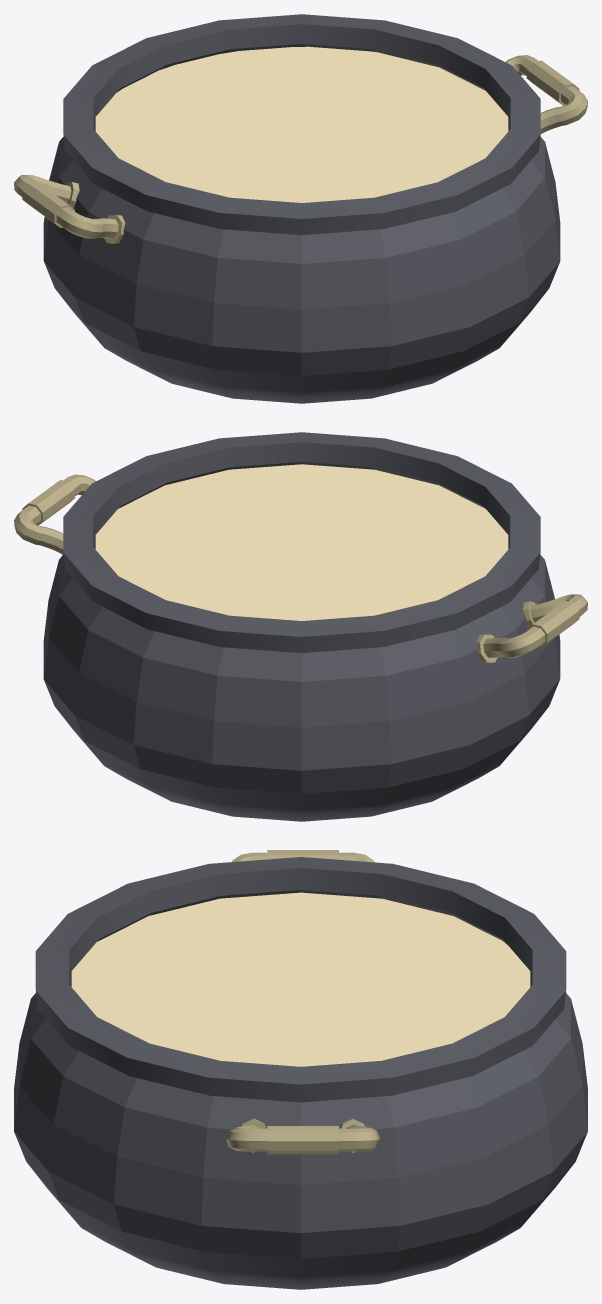
The model's file is SoupPotMesh.fbx.
3 views of the same model, one above another, from view 1: azimuth 30°, elevation 25°; view 2: azimuth 150°, elevation 25°; view 3: azimuth 270°, elevation 25° (orthographic). The views are drawn at different scales.
Visible parts, largest first — view 1: soupPot, pCylinder4, pCylinder3 (×2); view 2: soupPot, pCylinder4, pCylinder3 (×2); view 3: soupPot, pCylinder4, pCylinder3 (×2).
Part boxes in pixels (x1,y1,x2,y2): soupPot: [43, 14, 560, 403]; pCylinder4: [95, 46, 508, 202]; pCylinder3 (×2): [14, 55, 587, 243]; soupPot: [43, 432, 560, 821]; pCylinder4: [95, 464, 508, 620]; pCylinder3 (×2): [14, 474, 587, 663]; soupPot: [14, 857, 587, 1289]; pCylinder4: [71, 892, 530, 1066]; pCylinder3 (×2): [226, 850, 380, 1154].
Size of the model in its own units: 21.28 by 8.67 by 18.14.
